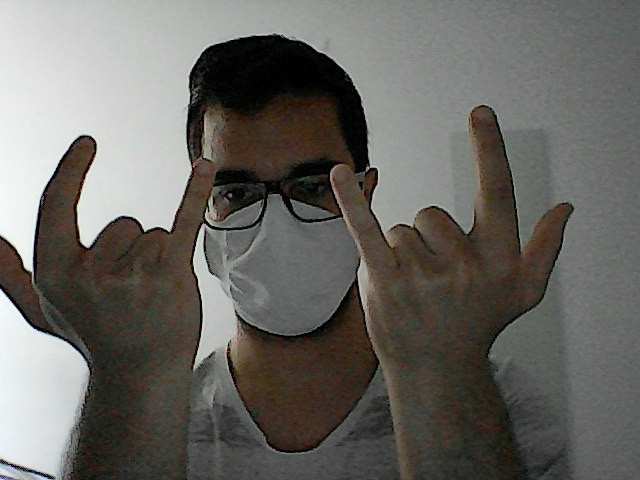shoot: (325, 96, 582, 351), (1, 128, 226, 362)
